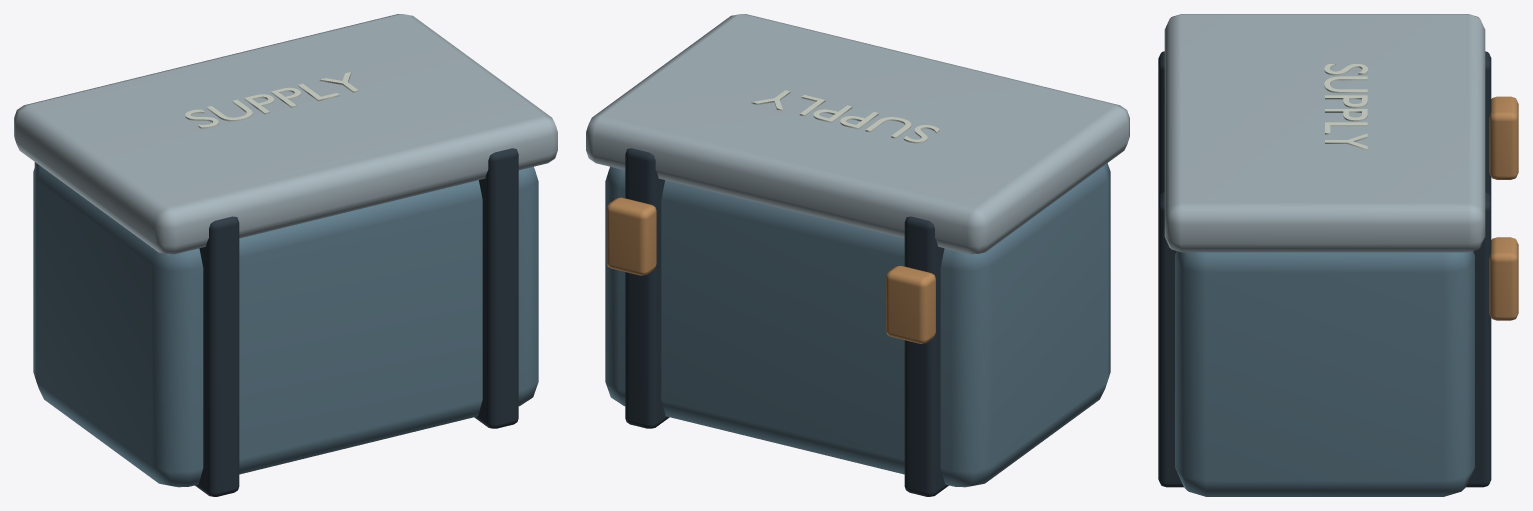
File: 21_supply_crate.glb
3 renders of one model, left to right at view 1: azimuth 30°, elevation 25°; view 2: azimuth 150°, elevation 25°; view 3: azimuth 270°, elevation 25°, orthographic. The views are drawn at different scales.
Visible parts, largest first — view 1: Shockproof case, Lid, Reinforced strap, Text; view 2: Shockproof case, Lid, Reinforced strap, Latch, Text; view 3: Lid, Shockproof case, Reinforced strap, Latch, Text.
Boxes of the visible parts, bbox=[...] form: Shockproof case: bbox=[33, 163, 538, 487]; Lid: bbox=[14, 14, 557, 254]; Reinforced strap: bbox=[195, 148, 518, 496]; Text: bbox=[185, 72, 358, 128]; Shockproof case: bbox=[605, 163, 1110, 487]; Lid: bbox=[586, 14, 1129, 254]; Reinforced strap: bbox=[625, 148, 948, 496]; Latch: bbox=[606, 197, 935, 343]; Text: bbox=[751, 90, 939, 143]; Lid: bbox=[1164, 14, 1485, 252]; Shockproof case: bbox=[1175, 251, 1474, 496]; Reinforced strap: bbox=[1158, 51, 1491, 487]; Latch: bbox=[1489, 96, 1518, 320]; Text: bbox=[1324, 63, 1367, 150].
Size of the model in its own units: 1.15 by 0.812 by 0.865.
